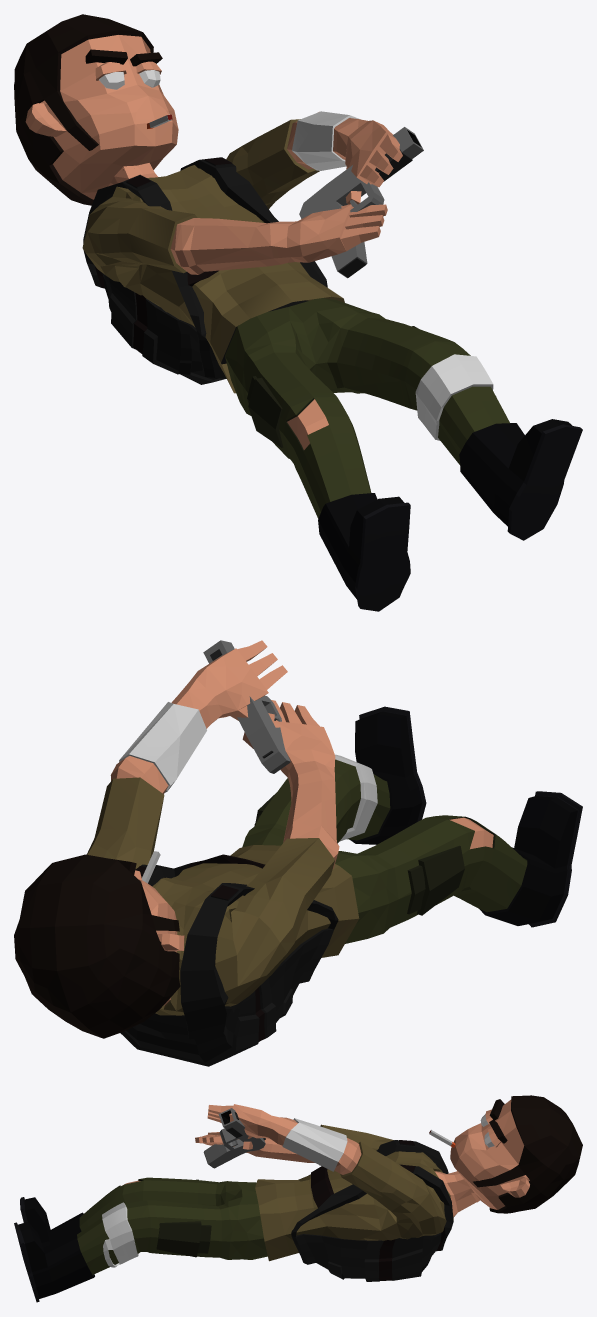
Rendered from frame_0122.obj.
3 renders of one model, top to bottom at view 1: azimuth 30°, elevation 25°; view 2: azimuth 150°, elevation 25°; view 3: azimuth 270°, elevation 25°, orthographic. The views are drawn at different scales.
Visible parts, largest first — view 1: Body, Gun; view 2: Body, Gun; view 3: Body, Gun.
Part boxes in pixels (box(x1,y1,x2,y2)): Body: box(14, 14, 582, 611); Gun: box(299, 127, 423, 278); Body: box(14, 640, 582, 1066); Gun: box(203, 640, 290, 773); Body: box(14, 1095, 582, 1302); Gun: box(203, 1108, 265, 1168).
Size of the model in its own units: 1.22 by 1.84 by 4.14.
